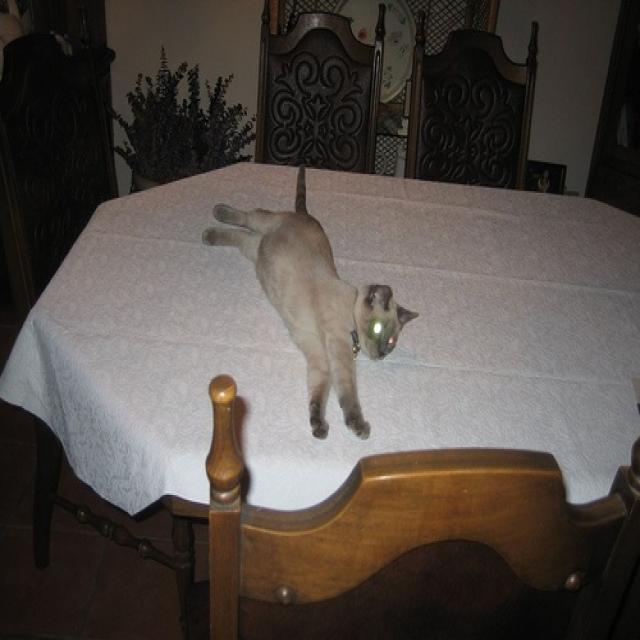cat: (200, 156, 421, 446)
chair: (1, 22, 201, 638), (200, 364, 638, 638), (398, 7, 544, 196), (247, 0, 387, 181)
diningtable: (0, 150, 639, 638)
